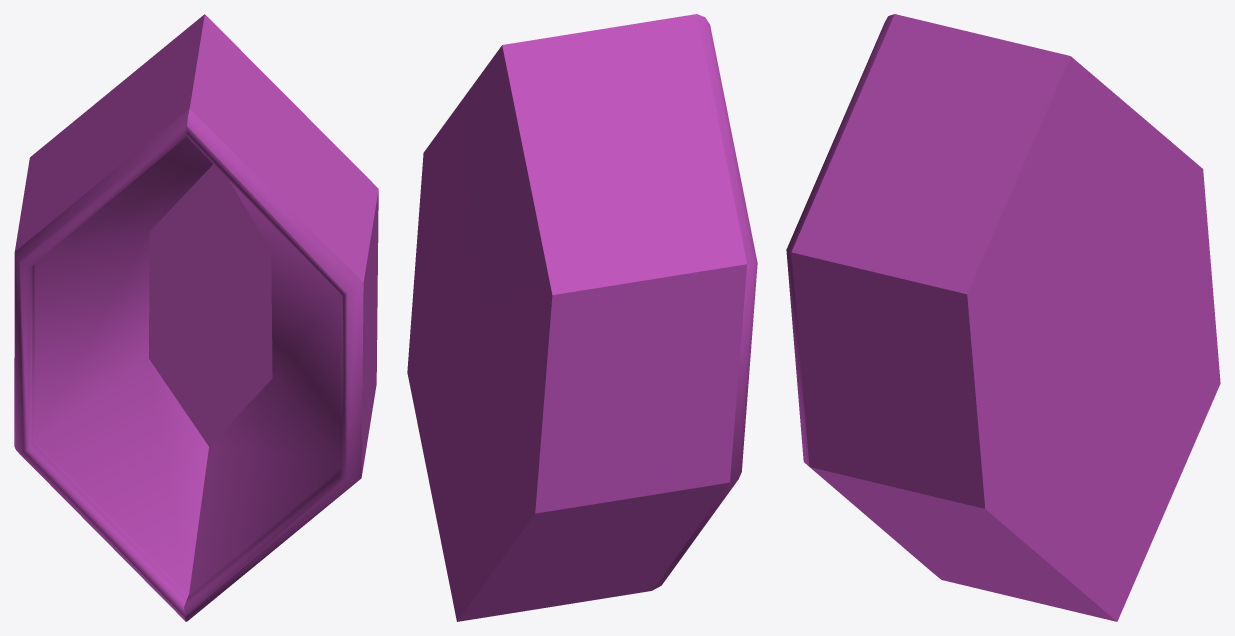
Rendered from BL3_8shapes_Hex_Classic_Metal.001 2.glb.
3 views of the same model, side by side, from view 1: azimuth 30°, elevation 25°; view 2: azimuth 150°, elevation 25°; view 3: azimuth 270°, elevation 25° (orthographic). The views are drawn at different scales.
Visible parts, largest first — view 1: BL3_8shapes_Hex_Classic_Metal.001; view 2: BL3_8shapes_Hex_Classic_Metal.001; view 3: BL3_8shapes_Hex_Classic_Metal.001.
Boxes of the visible parts, box(x1,y1,x2,y2) form: BL3_8shapes_Hex_Classic_Metal.001: box(14, 14, 378, 621); BL3_8shapes_Hex_Classic_Metal.001: box(407, 14, 757, 621); BL3_8shapes_Hex_Classic_Metal.001: box(786, 14, 1220, 621).
Bounding box in the file's own units: 0.4932 × 0.7424 × 0.5179.
